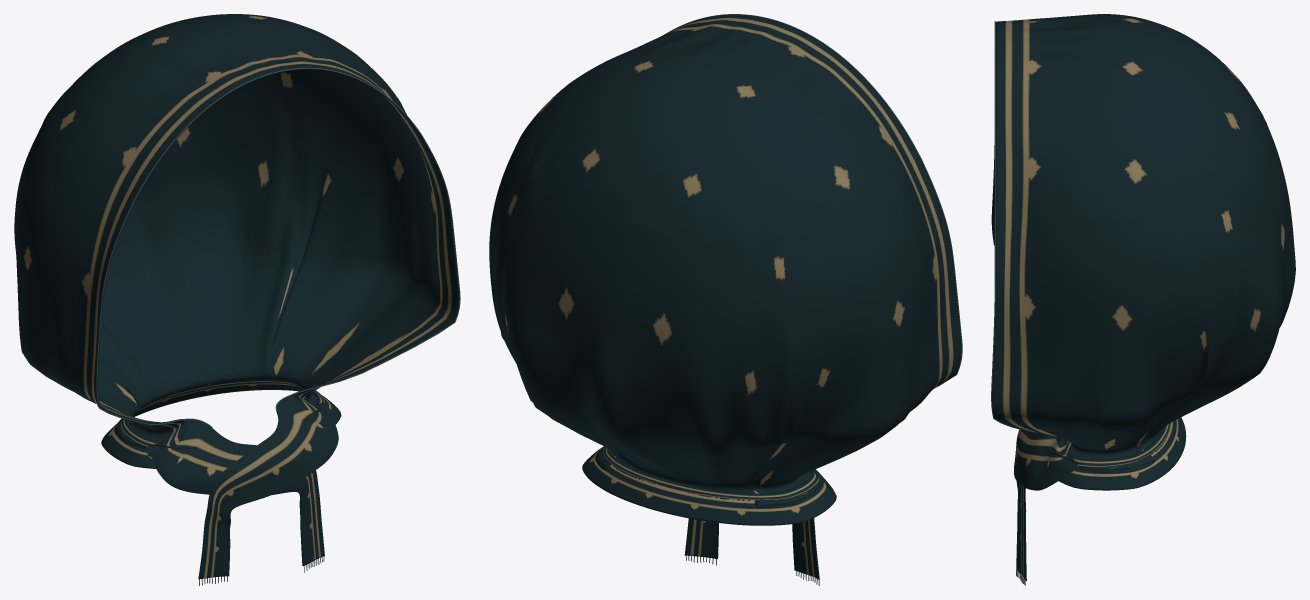
File: Masculine-buttonup-pashmina240-headgear.glb
The picture shows the model from 3 angles, left to right: view 1: azimuth 30°, elevation 25°; view 2: azimuth 150°, elevation 25°; view 3: azimuth 270°, elevation 25°; orthographic projection. The views are drawn at different scales.
Visible parts, largest first — view 1: 226 headgear / Headwear / continuous woven pashmina239, 226 headgear / Headwear / face edge239; view 2: 226 headgear / Headwear / continuous woven pashmina239, 226 headgear / Headwear / face edge239; view 3: 226 headgear / Headwear / continuous woven pashmina239, 226 headgear / Headwear / face edge239.
Part boxes in pixels (x1,y1,x2,y2): 226 headgear / Headwear / continuous woven pashmina239: (14, 14, 459, 579); 226 headgear / Headwear / face edge239: (96, 68, 460, 427); 226 headgear / Headwear / continuous woven pashmina239: (489, 14, 961, 579); 226 headgear / Headwear / face edge239: (666, 14, 962, 388); 226 headgear / Headwear / continuous woven pashmina239: (991, 14, 1295, 580); 226 headgear / Headwear / face edge239: (991, 21, 1039, 432).
Size of the model in its own units: 1.03 by 1.35 by 0.7127.
3 materials, 1 textured.
